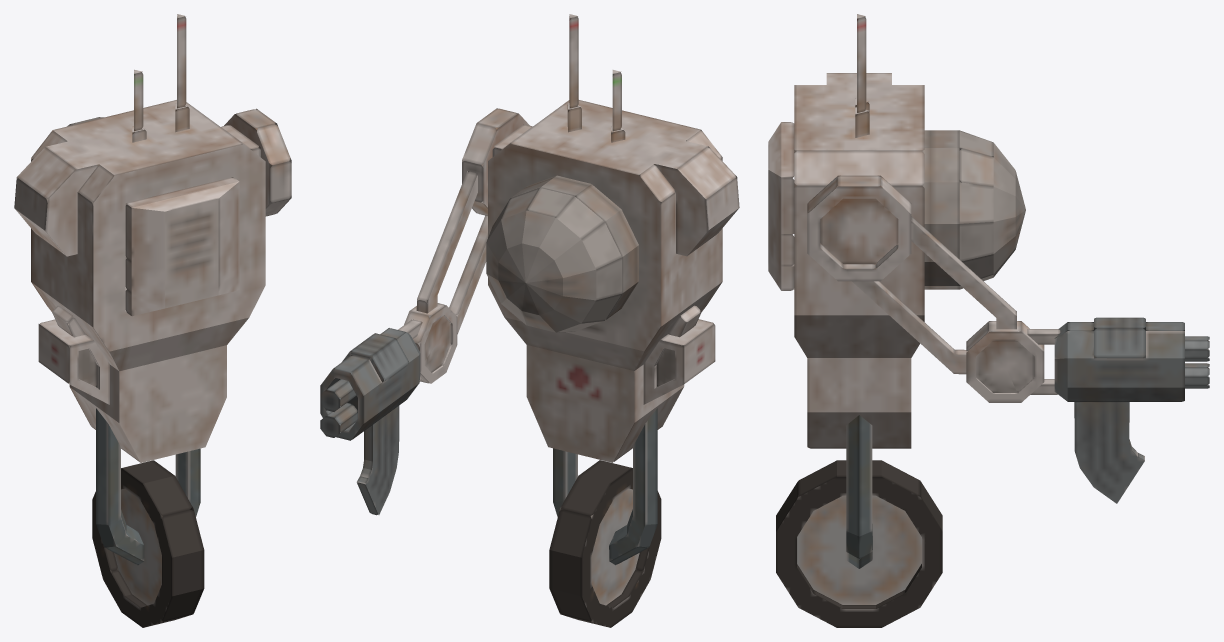
The model's file is 14-RRy.fbx.
3 renders of one model, left to right at view 1: azimuth 30°, elevation 25°; view 2: azimuth 150°, elevation 25°; view 3: azimuth 270°, elevation 25°, orthographic. The views are drawn at different scales.
Parts seen in each view (by area): view 1: Body, Wheel, WheelHolder, GunArm, Antenna, WheelHolder_1, Antenna_1; view 2: Body, Head, Wheel, Gun, GunArm, WheelHolder, Antenna, WheelHolder_1, Antenna_1; view 3: Body, GunArm, Wheel, Gun, Head, WheelHolder_1, Antenna.
Part boxes in pixels (x1,y1,x2,y2): Body: (14, 100, 265, 462); Wheel: (92, 460, 204, 627); WheelHolder: (96, 385, 144, 564); GunArm: (224, 108, 291, 216); Antenna: (175, 14, 189, 132); WheelHolder_1: (175, 448, 200, 516); Antenna_1: (132, 69, 146, 142); Body: (488, 100, 739, 462); Head: (486, 175, 638, 332); Wheel: (549, 460, 661, 627); Gun: (320, 328, 420, 515); GunArm: (398, 108, 529, 383); WheelHolder: (609, 385, 657, 565); Antenna: (567, 14, 581, 132); WheelHolder_1: (553, 448, 577, 516); Antenna_1: (611, 70, 625, 142); Body: (768, 73, 924, 448); GunArm: (807, 175, 1060, 402); Wheel: (776, 460, 942, 627); Gun: (1054, 317, 1209, 503); Head: (921, 130, 1025, 289); WheelHolder_1: (846, 415, 872, 568); Antenna: (855, 14, 869, 137).
Size of the model in its own units: 145 by 328 by 212.
Materials: 1 (1 with a texture image).
